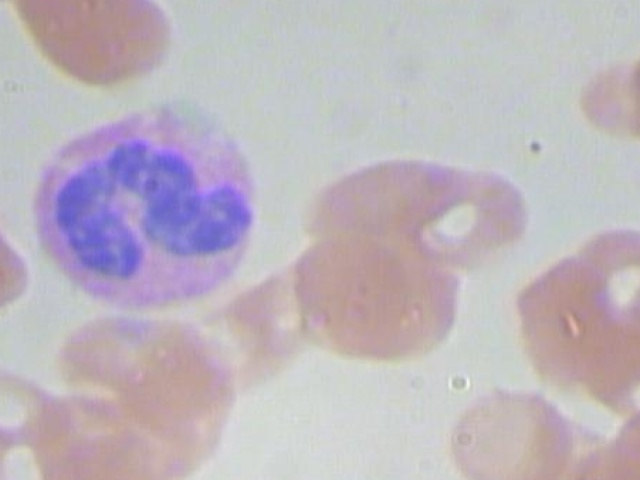RBC: (275, 224, 463, 368), (86, 327, 239, 444), (0, 0, 192, 91), (383, 160, 531, 278), (308, 139, 456, 257), (436, 366, 584, 480), (182, 286, 306, 394), (552, 217, 640, 336), (508, 407, 640, 480), (31, 430, 198, 480), (0, 170, 35, 324), (597, 387, 640, 480), (609, 32, 640, 152), (42, 470, 209, 480), (176, 470, 342, 480)
WBC: (6, 94, 274, 308)
